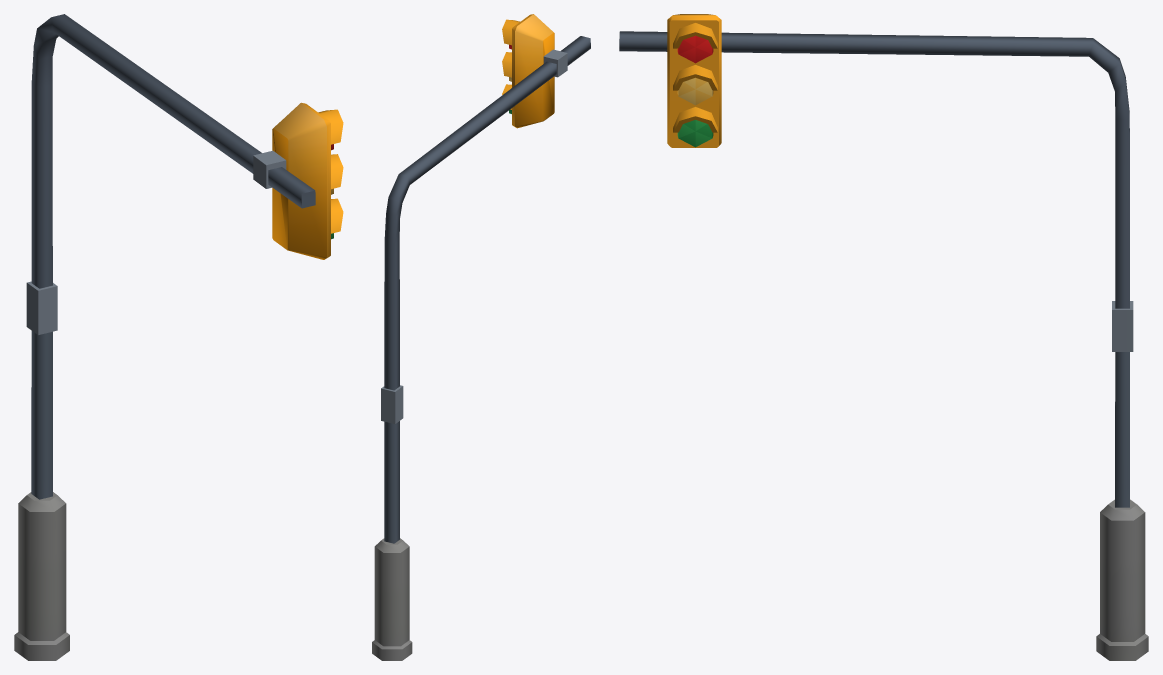
File: Lights_1_A.fbx
3 renders of one model, left to right at view 1: azimuth 30°, elevation 25°; view 2: azimuth 150°, elevation 25°; view 3: azimuth 270°, elevation 25°, orthographic. The views are drawn at different scales.
Visible parts, largest first — view 1: Lights_1_A; view 2: Lights_1_A; view 3: Lights_1_A.
Part boxes in pixels (x1,y1,x2,y2): Lights_1_A: (14,14,343,660); Lights_1_A: (372,14,590,660); Lights_1_A: (619,14,1148,660).
Bounding box in the file's own units: 59.74 × 440 × 322.
